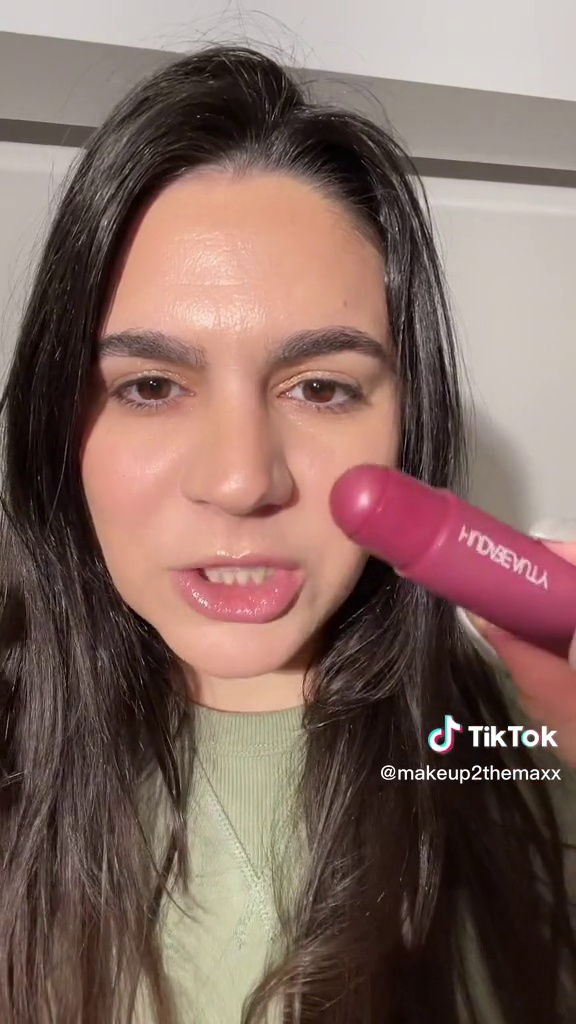train' :'yolo_data/train/images',: (317, 458, 575, 662)
